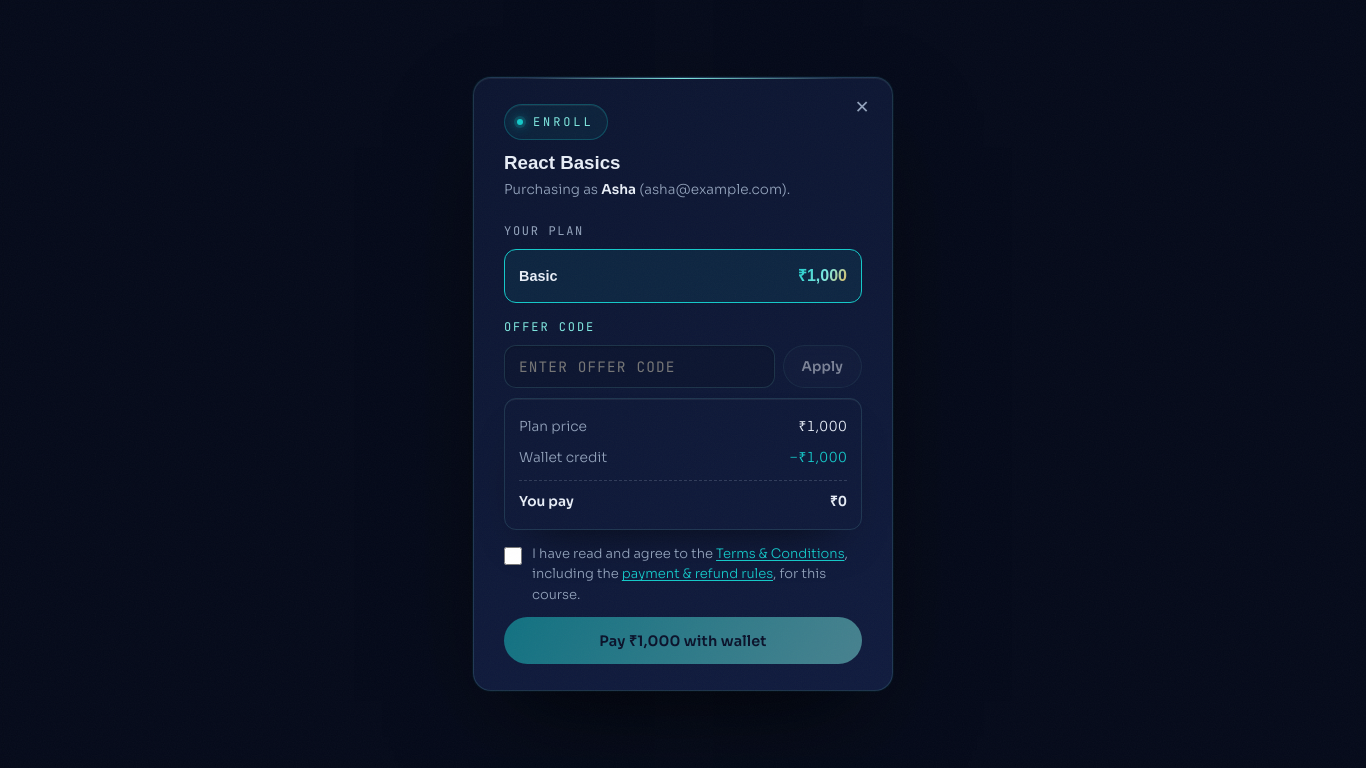
it: BuyModal with a wallet › won't take payment until the Terms & Conditions box is ticked
expect the submit button is disabled: met, box [504,617,862,664]
Submit the form, box [504,221,862,664]
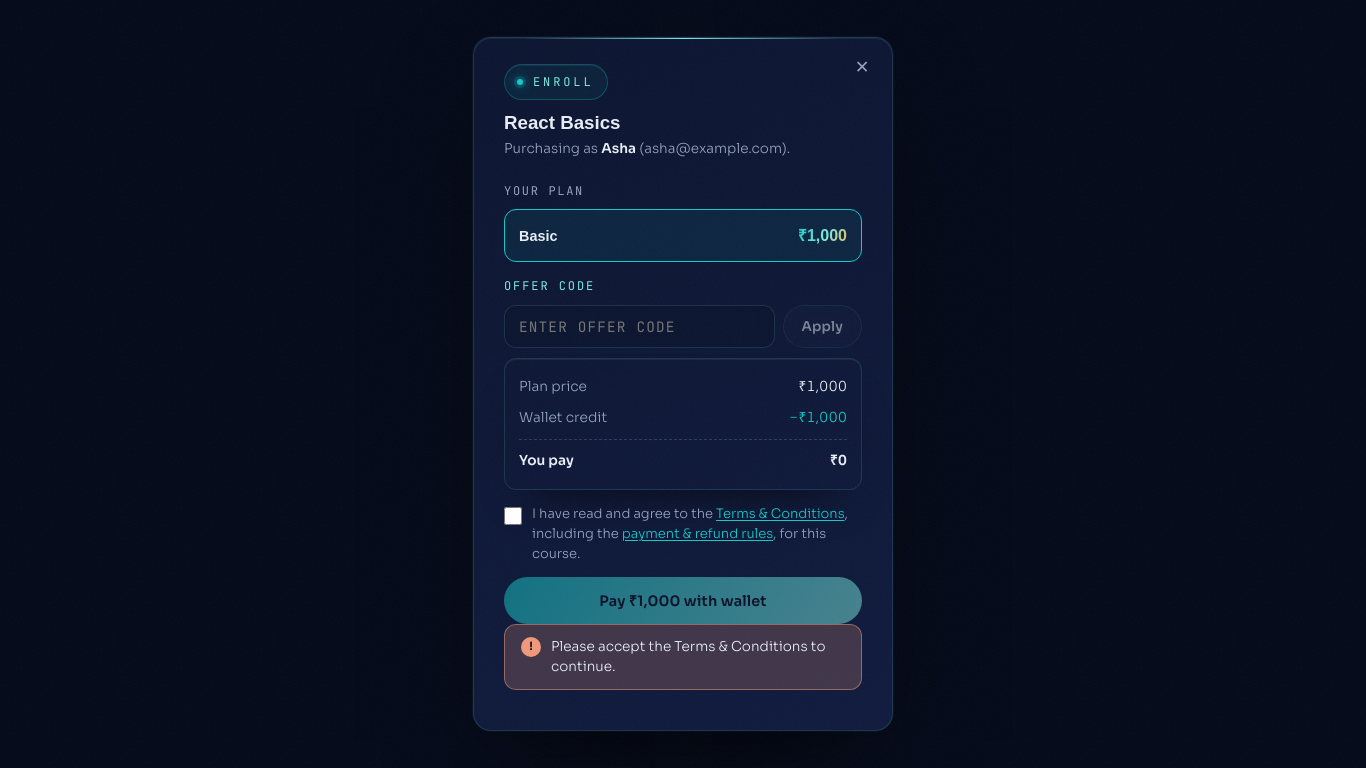
expect the message with class "alert-error" shows "accept the Terms & Conditions": met, box [551,638,826,675]
Click the checkbox at (513, 516), box [504,507,522,525]
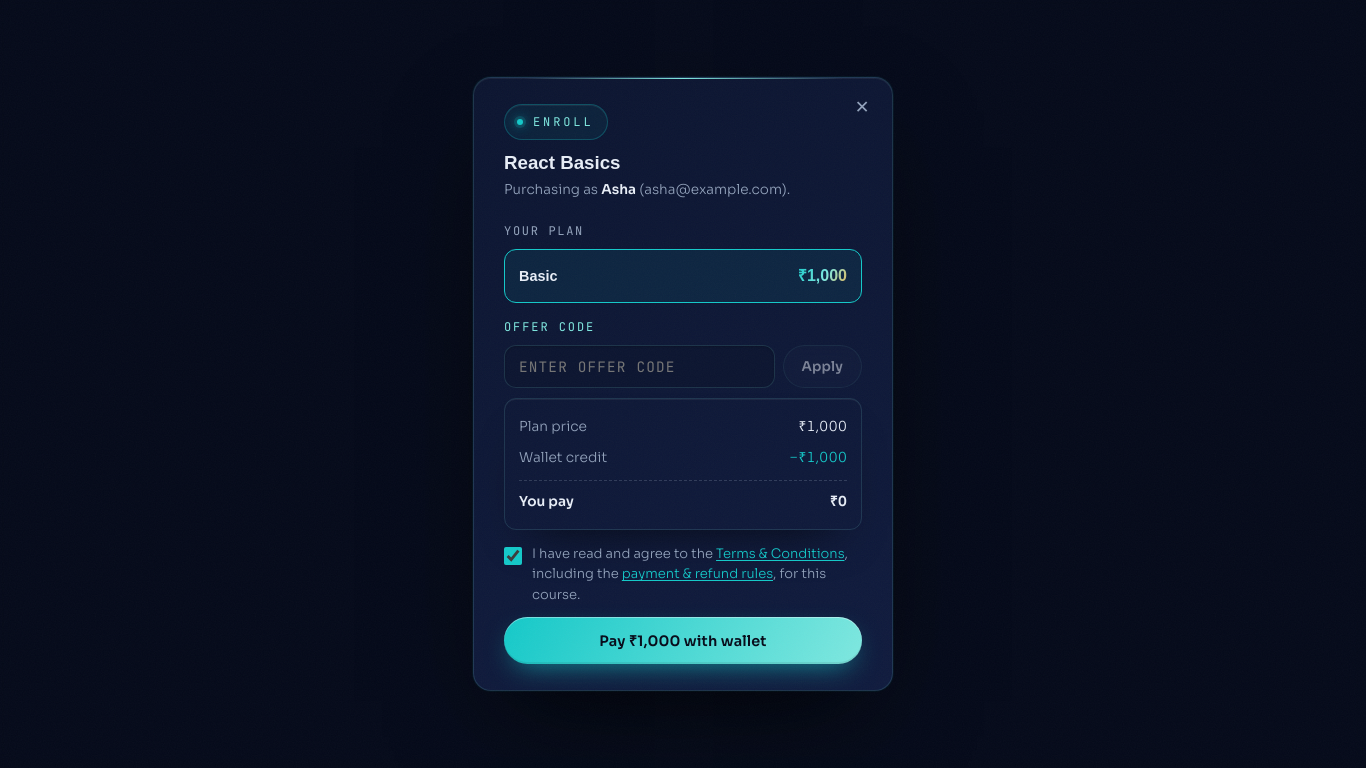
expect the submit button is enabled: met, box [504,617,862,664]
